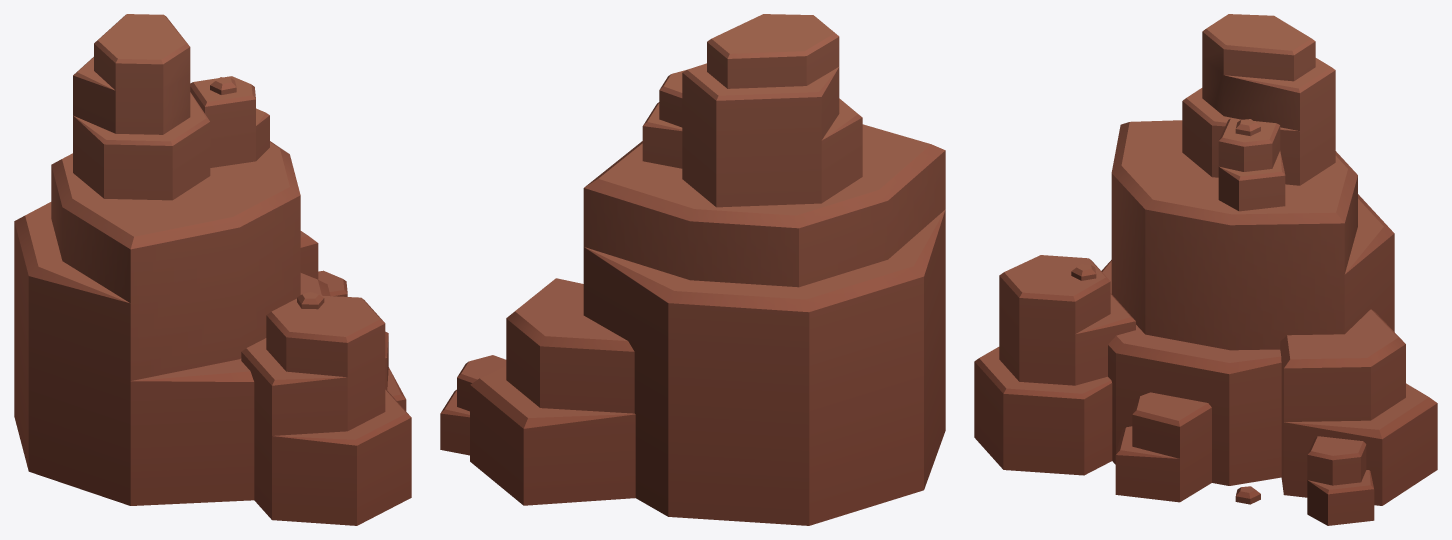
Rendered from Rock_1_J_Color2.fbx.
3 renders of one model, left to right at view 1: azimuth 30°, elevation 25°; view 2: azimuth 150°, elevation 25°; view 3: azimuth 270°, elevation 25°, orthographic. The views are drawn at different scales.
Parts seen in each view (by area): view 1: Rock_1_J_Color2; view 2: Rock_1_J_Color2; view 3: Rock_1_J_Color2.
Boxes of the visible parts, x1,y1,x2,y2 form: Rock_1_J_Color2: (14, 14, 411, 525); Rock_1_J_Color2: (440, 14, 945, 525); Rock_1_J_Color2: (974, 14, 1437, 525).
Bounding box in the file's own units: 3.39 × 3.36 × 3.76.
